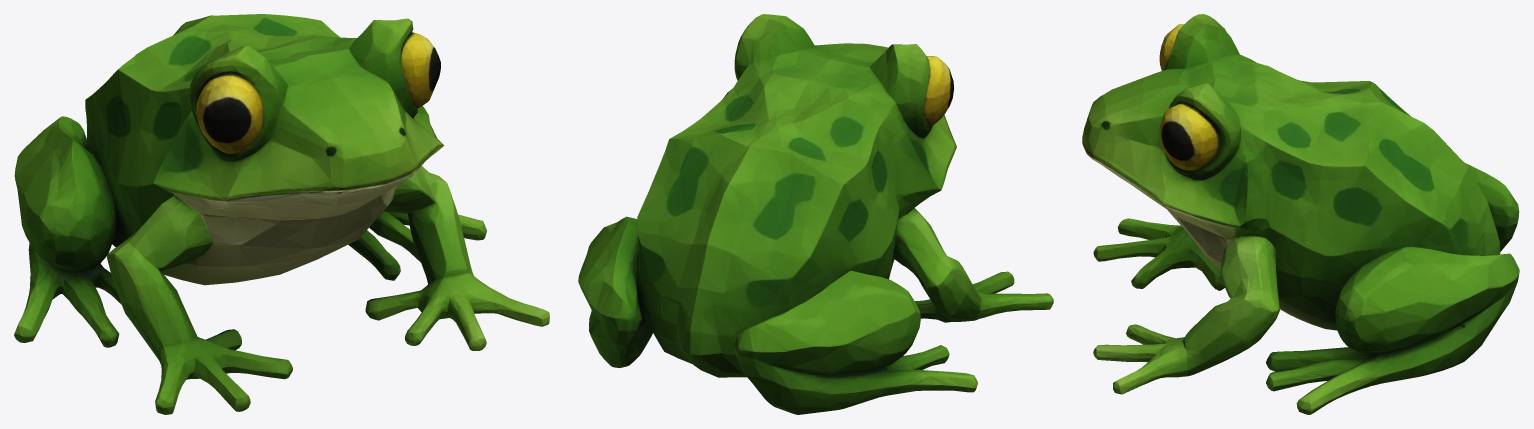
Rendered from frog.glb.
3 views of the same model, side by side, from view 1: azimuth 30°, elevation 25°; view 2: azimuth 150°, elevation 25°; view 3: azimuth 270°, elevation 25° (orthographic). The views are drawn at different scales.
Parts seen in each view (by area): view 1: world; view 2: world; view 3: world.
Part boxes in pixels (left/top/right/bottom): world: left=14, top=14, right=549, bottom=414; world: left=578, top=14, right=1053, bottom=414; world: left=1082, top=14, right=1519, bottom=414.
Bounding box in the file's own units: 0.9929 × 0.6358 × 0.9332.
1 material, 1 textured.
